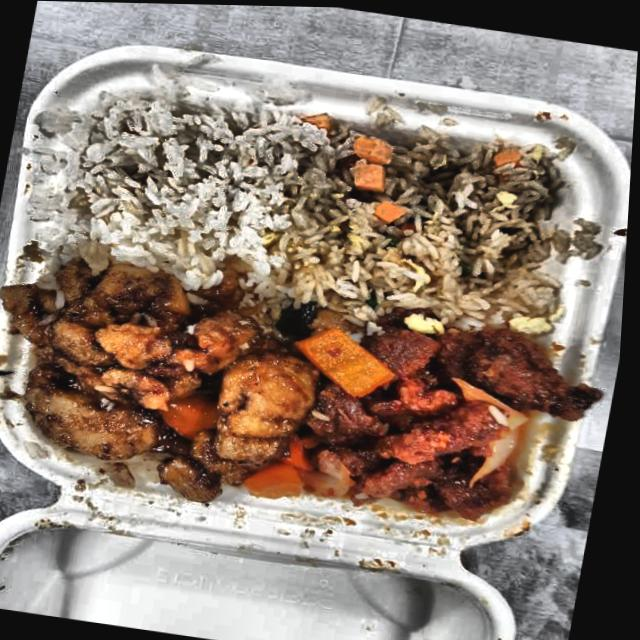Food: (0, 247, 335, 515), (279, 299, 612, 542), (278, 109, 596, 338), (33, 74, 329, 293)
